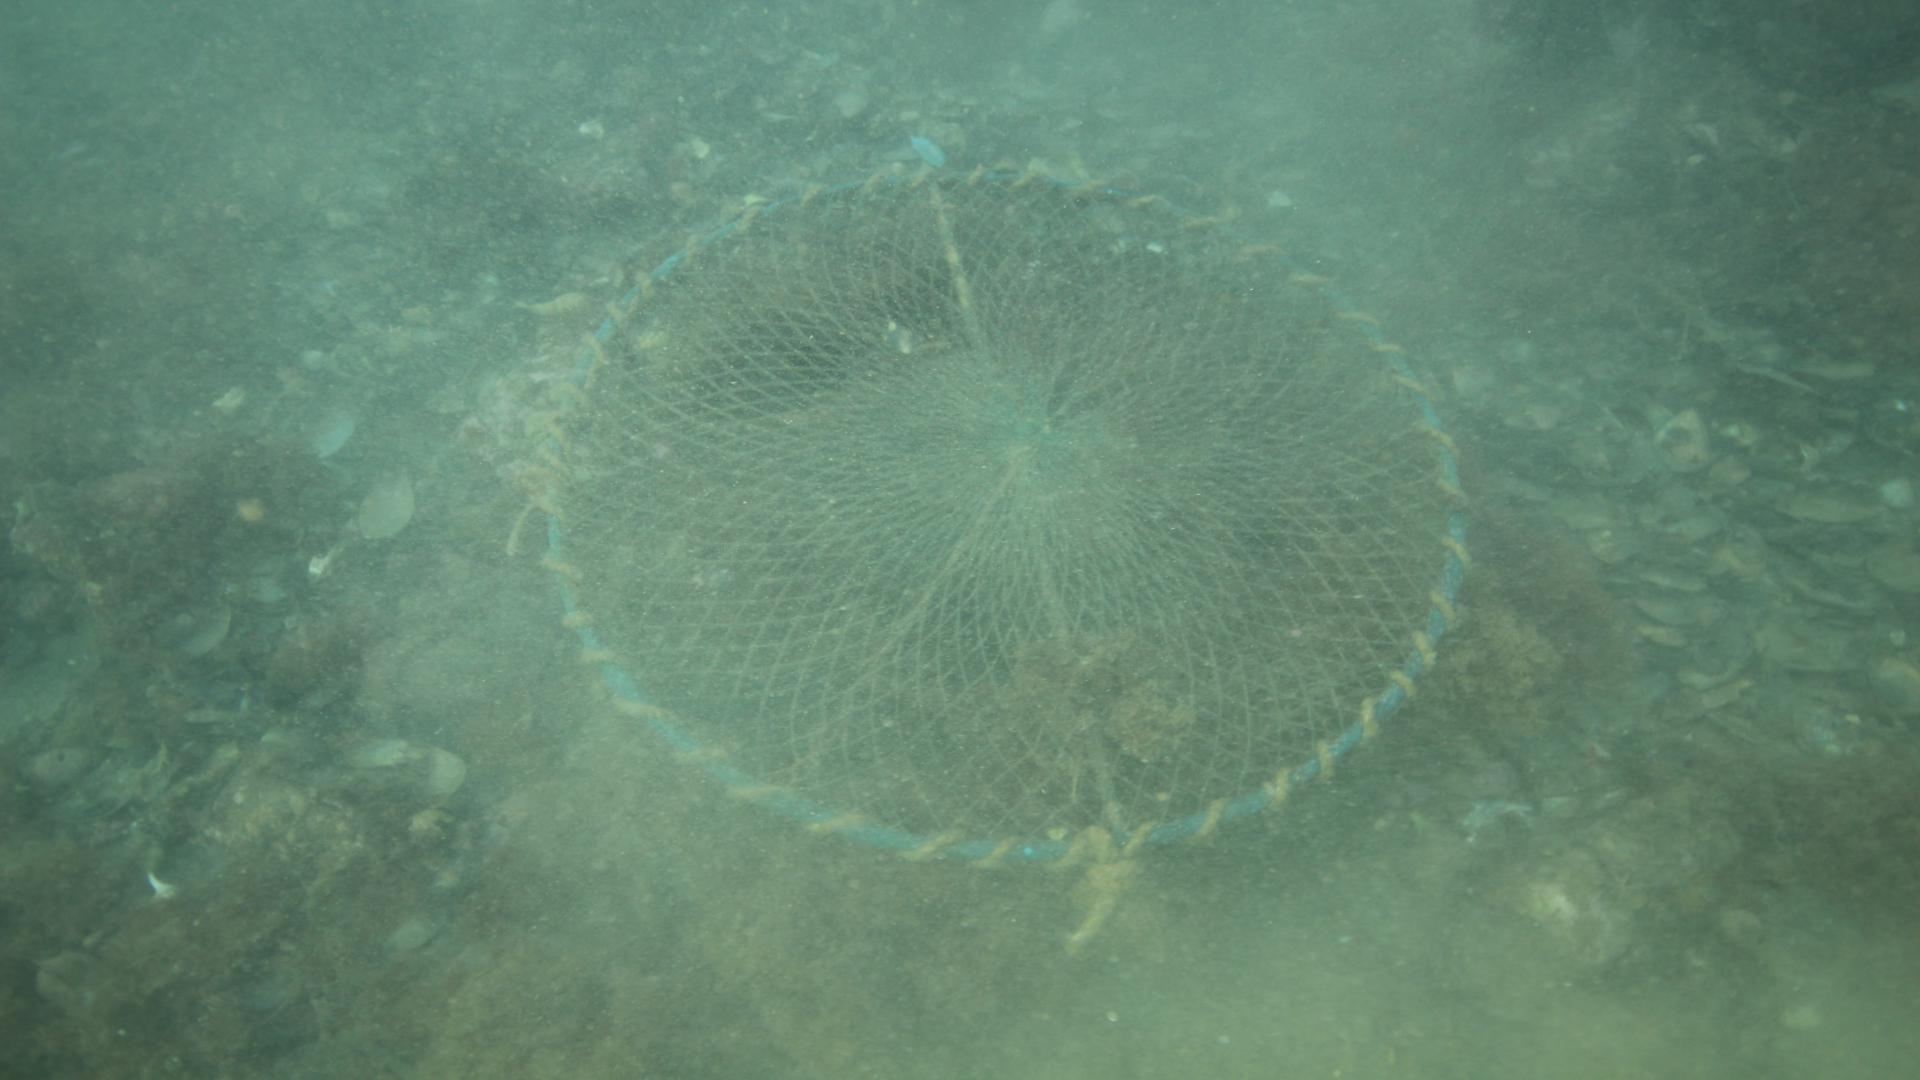circular fish trap: (535, 160, 1472, 866)
